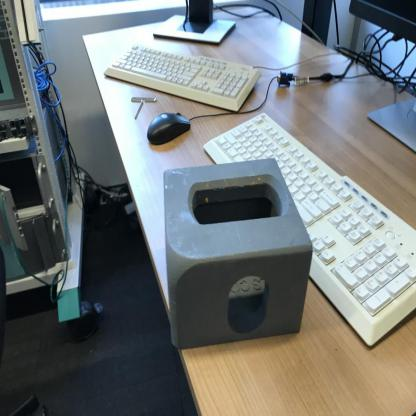CornerCasting: (160, 156, 318, 352)
